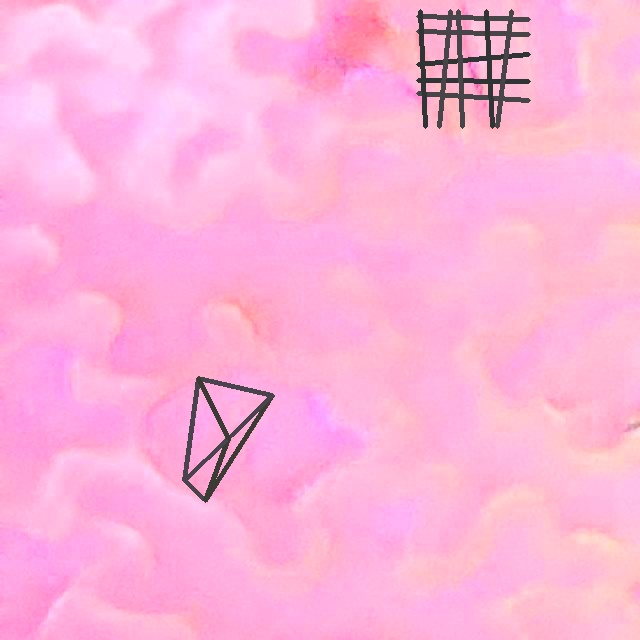close: (182, 376, 274, 501)
open: (416, 9, 530, 128)
